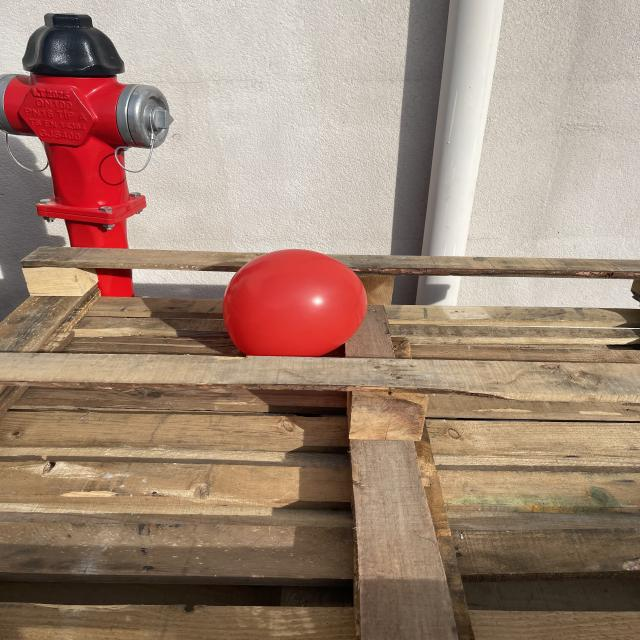balloon: (223, 249, 367, 357)
